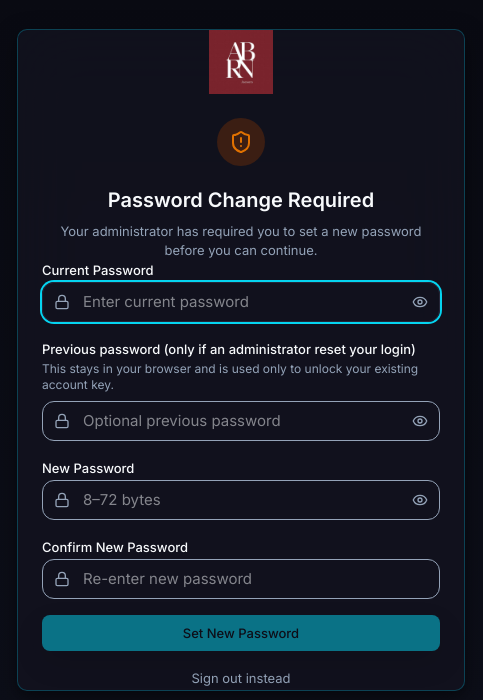
forced password change key continuity › fails closed without mutating the password when the current envelope cannot be decrypted
The image size is (483, 700).
In the password field labelled "Current Password": (241, 302) [42,282,440,322], type "old-password"
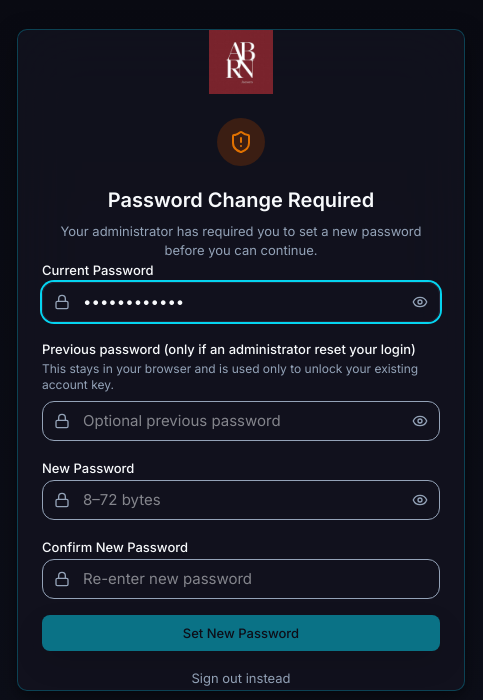
In the password field labelled "New Password": (241, 500) [42,480,440,520], type "new-password"
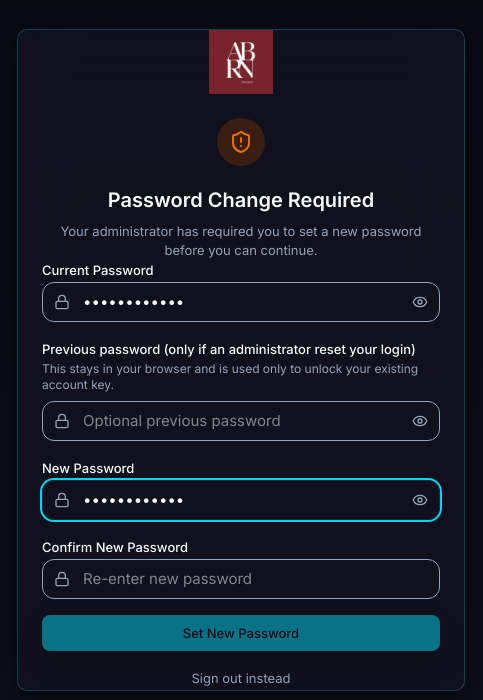
In the password field labelled "Confirm New Password": (241, 579) [42,559,440,599], type "new-password"
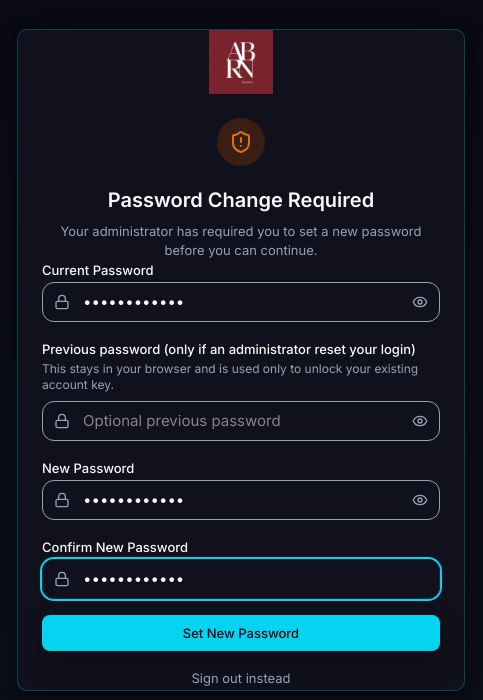
Click the button "Set New Password": (241, 633) [42,615,440,651]
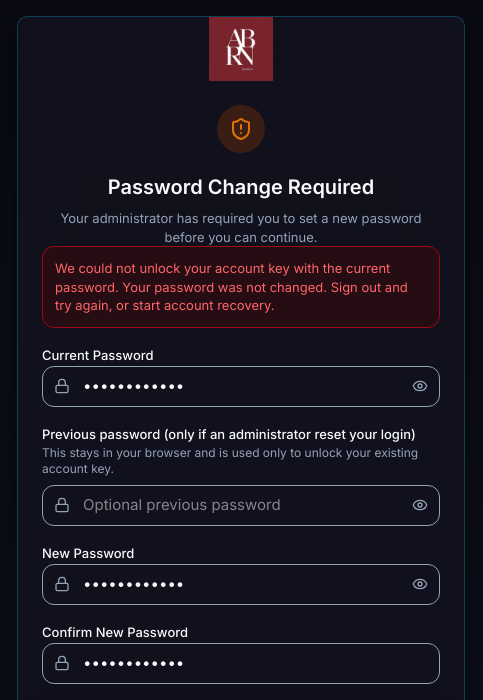
Check: the message shows "could not unlock your account key", box [55,260,408,313]
